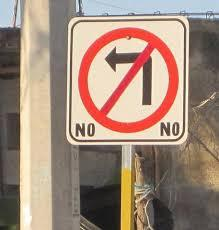no_left_turn: (77, 26, 178, 131)
